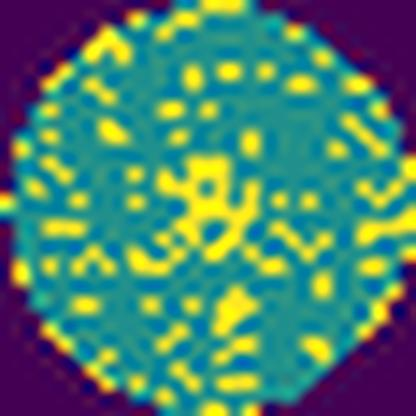Center: (124, 147, 298, 278)
